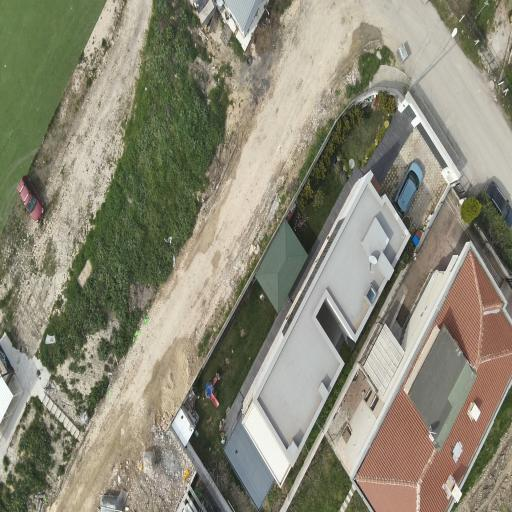car: (394, 161, 424, 215), (486, 181, 511, 227), (18, 176, 43, 222)
